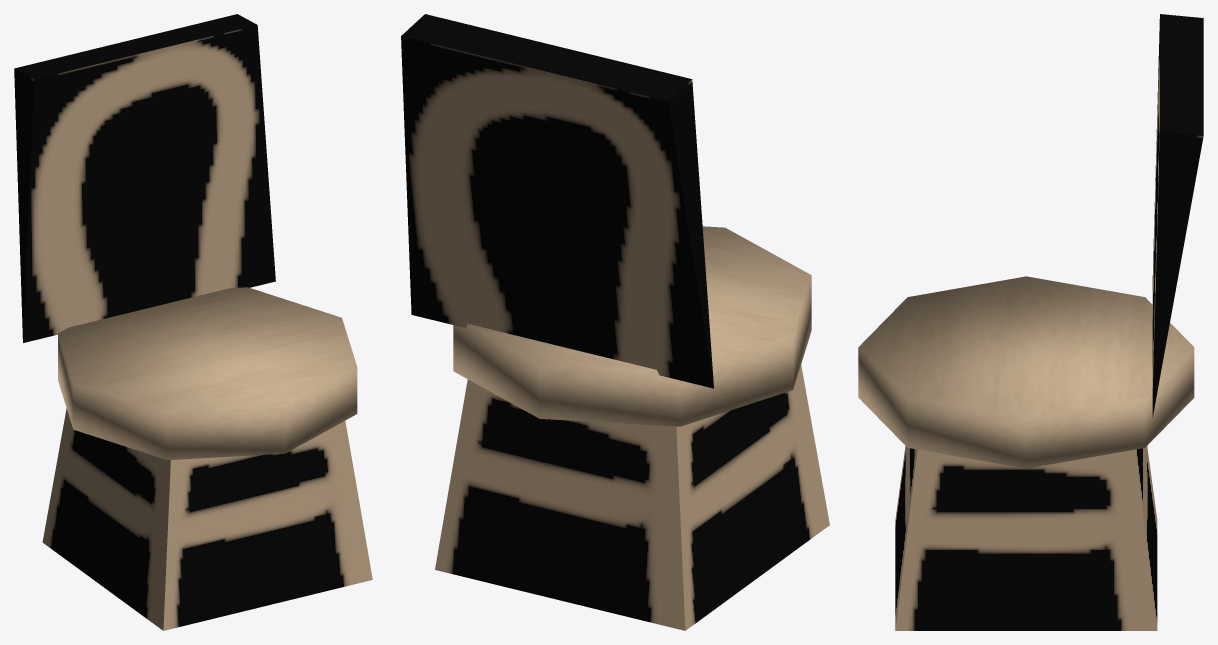
The model's file is oak_chair.glb.
3 renders of one model, left to right at view 1: azimuth 30°, elevation 25°; view 2: azimuth 150°, elevation 25°; view 3: azimuth 270°, elevation 25°, orthographic. The views are drawn at different scales.
Visible parts, largest first — view 1: Back, Legs, Seat; view 2: Back, Legs, Seat; view 3: Seat, Legs, Back.
Boxes of the visible parts, x1=… form: Back: x1=14, y1=14, x2=275, y2=342; Legs: x1=42, y1=408, x2=372, y2=630; Seat: x1=58, y1=287, x2=357, y2=460; Back: x1=401, y1=14, x2=713, y2=388; Legs: x1=435, y1=364, x2=829, y2=630; Seat: x1=453, y1=226, x2=811, y2=426; Seat: x1=858, y1=276, x2=1194, y2=468; Legs: x1=895, y1=446, x2=1157, y2=630; Back: x1=1152, y1=14, x2=1203, y2=417.
Size of the model in its own units: 0.9983 by 1.65 by 1.03.
2 materials, 2 textured.
